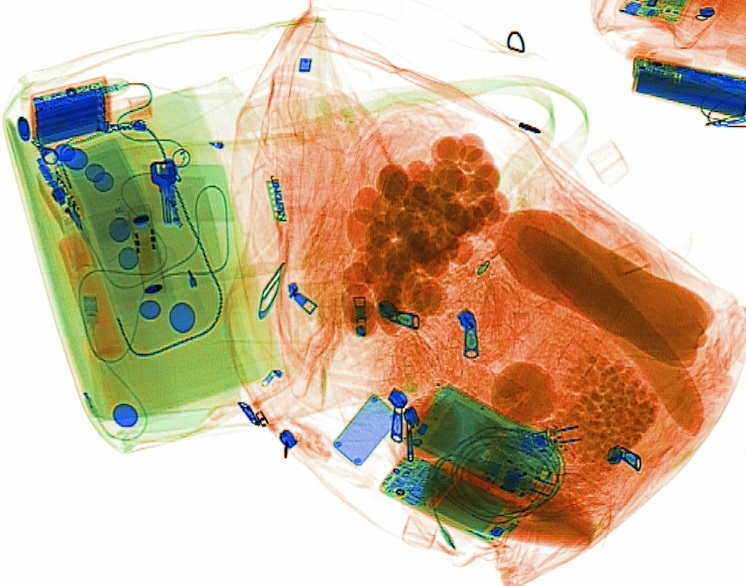powerbank: (628, 53, 742, 118), (23, 77, 116, 148)
